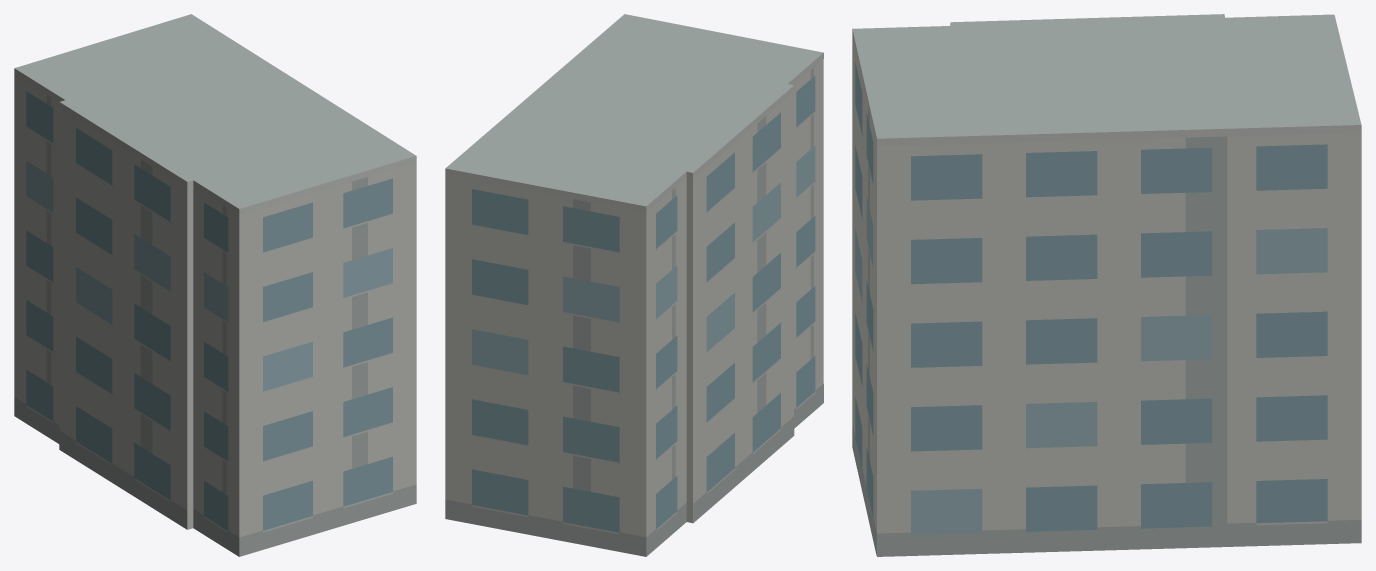
Rendered from survey-upis-32890598.glb.
3 renders of one model, left to right at view 1: azimuth 30°, elevation 25°; view 2: azimuth 150°, elevation 25°; view 3: azimuth 270°, elevation 25°, orthographic. The views are drawn at different scales.
Visible parts, largest first — view 1: survey-upis-32890598.tmp; view 2: survey-upis-32890598.tmp; view 3: survey-upis-32890598.tmp.
Boxes of the visible parts, bbox=[...] form: survey-upis-32890598.tmp: bbox=[14, 14, 416, 556]; survey-upis-32890598.tmp: bbox=[445, 14, 823, 556]; survey-upis-32890598.tmp: bbox=[852, 14, 1361, 556].
Bounding box in the file's own units: 8.45 × 13.2 × 14.58.
